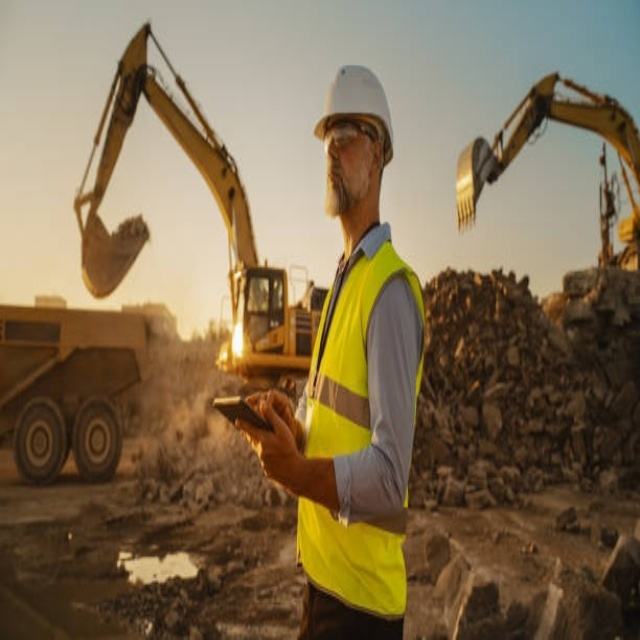Gafas: (323, 120, 381, 156)
Sin_guantes: (236, 392, 304, 493)
Sin_mascara: (325, 162, 352, 206)
